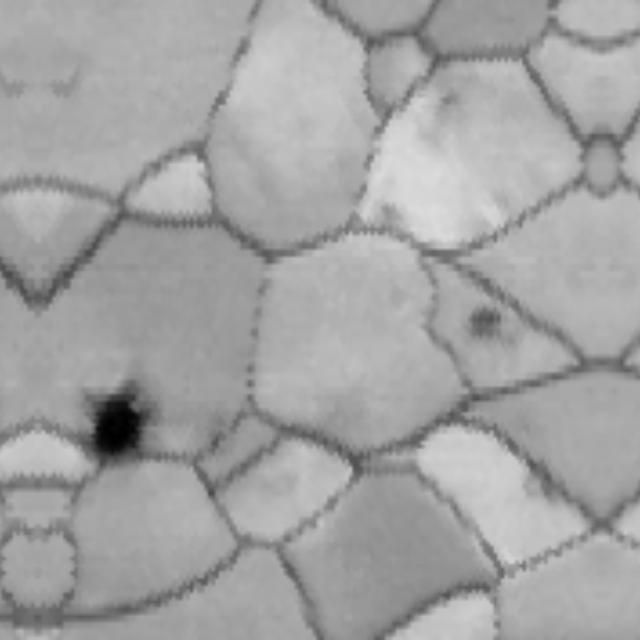good_void: (69, 382, 161, 466), (415, 77, 479, 156), (514, 453, 578, 512), (460, 298, 516, 349), (376, 198, 417, 237)
